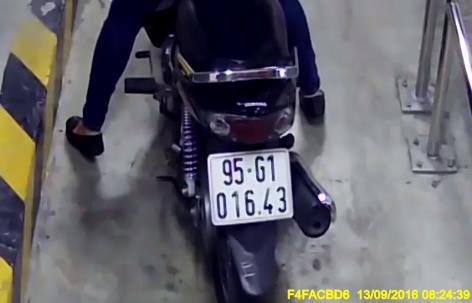License_Plate: (202, 147, 295, 233)
